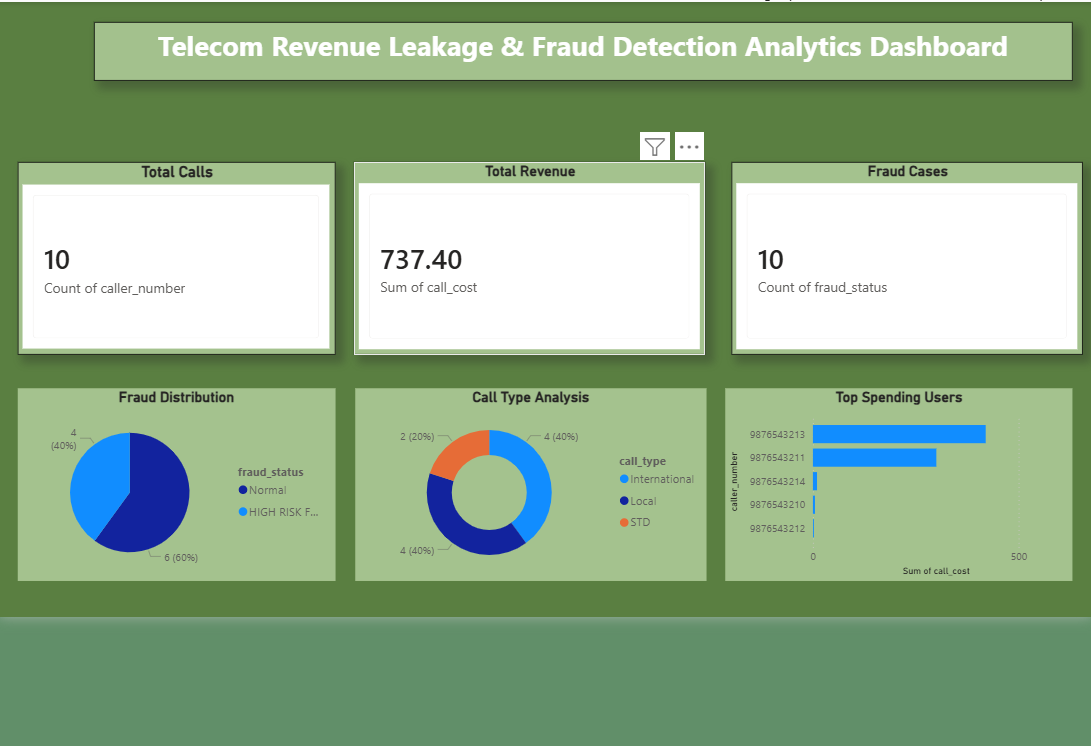

Layout of this report page (visuals, bound fields, positions):
{"tool":"powerbi","page":{"name":"Page 1","canvas":[1280,720],"ordinal":0},"visuals":[{"type":"cardVisual","title":"Total Calls","fields":{"Data":["CountNonNull(telecom_fraud_detection fraud_analysis_view.caller_number)"]},"box":[21.9,187.3,371.7,225.3],"z":0},{"type":"cardVisual","title":"Total Revenue","fields":{"Data":["Sum(telecom_fraud_detection fraud_analysis_view.call_cost)"]},"box":[415.5,187.3,411.2,225.3],"z":1000},{"type":"cardVisual","title":"Fraud Cases","fields":{"Data":["CountNonNull(telecom_fraud_detection fraud_analysis_view.fraud_status)"]},"box":[857.4,187.3,411.2,225.3],"z":2000},{"type":"pieChart","title":"Fraud Distribution","fields":{"Category":["telecom_fraud_detection fraud_analysis_view.fraud_status"],"Y":["CountNonNull(telecom_fraud_detection fraud_analysis_view.caller_number)"]},"box":[21.9,452.1,371.7,225.3],"z":3000},{"type":"donutChart","title":"Call Type Analysis","fields":{"Category":["telecom_fraud_detection fraud_analysis_view.call_type"],"Y":["CountNonNull(telecom_fraud_detection fraud_analysis_view.caller_number)"]},"box":[417,452.1,411.2,225.3],"z":4000},{"type":"clusteredBarChart","title":"Top Spending Users","fields":{"Y":["Sum(telecom_fraud_detection fraud_analysis_view.call_cost)"],"Category":["telecom_fraud_detection fraud_analysis_view.caller_number"]},"box":[850.1,452.1,406.8,225.3],"z":5000},{"type":"textbox","box":[111.2,23.4,1145.7,68.8],"z":6000}]}

Visuals, with their boxes in screenshot pixels (x1, y1, x2, y2):
"Total Calls" cardVisual: box=[21, 160, 334, 350]
"Total Revenue" cardVisual: box=[352, 160, 698, 350]
"Fraud Cases" cardVisual: box=[724, 160, 1069, 350]
"Fraud Distribution" pieChart: box=[21, 383, 334, 572]
"Call Type Analysis" donutChart: box=[353, 383, 699, 572]
"Top Spending Users" clusteredBarChart: box=[717, 383, 1059, 572]
textbox: box=[96, 23, 1059, 80]
